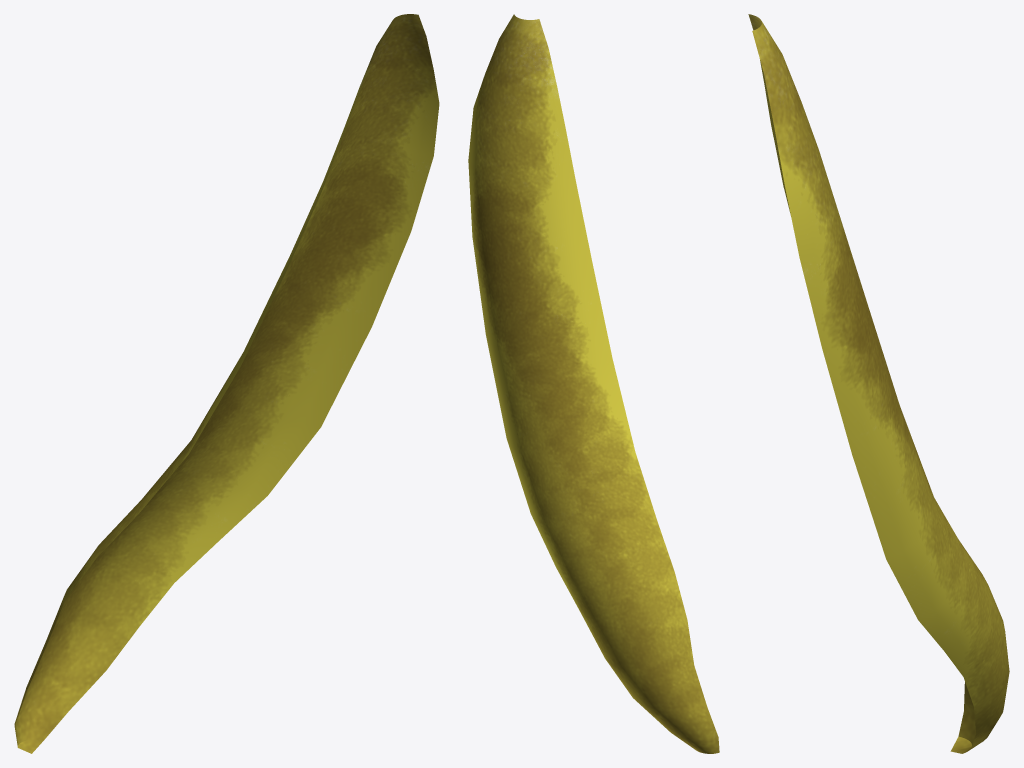
Rendered from bossBananPeelLeft.obj.
The picture shows the model from 3 angles, left to right: view 1: azimuth 30°, elevation 25°; view 2: azimuth 150°, elevation 25°; view 3: azimuth 270°, elevation 25°; orthographic projection. The views are drawn at different scales.
Visible parts, largest first — view 1: 球.002; view 2: 球.002; view 3: 球.002.
Part boxes in pixels (x1,y1,x2,y2): 球.002: (14,14,439,753); 球.002: (468,14,719,753); 球.002: (748,14,1009,753).
Bounding box in the file's own units: 0.4838 × 0.9424 × 0.2451.
Materials: 1 (1 with a texture image).
